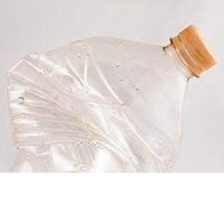bottle: (4, 20, 221, 171)
